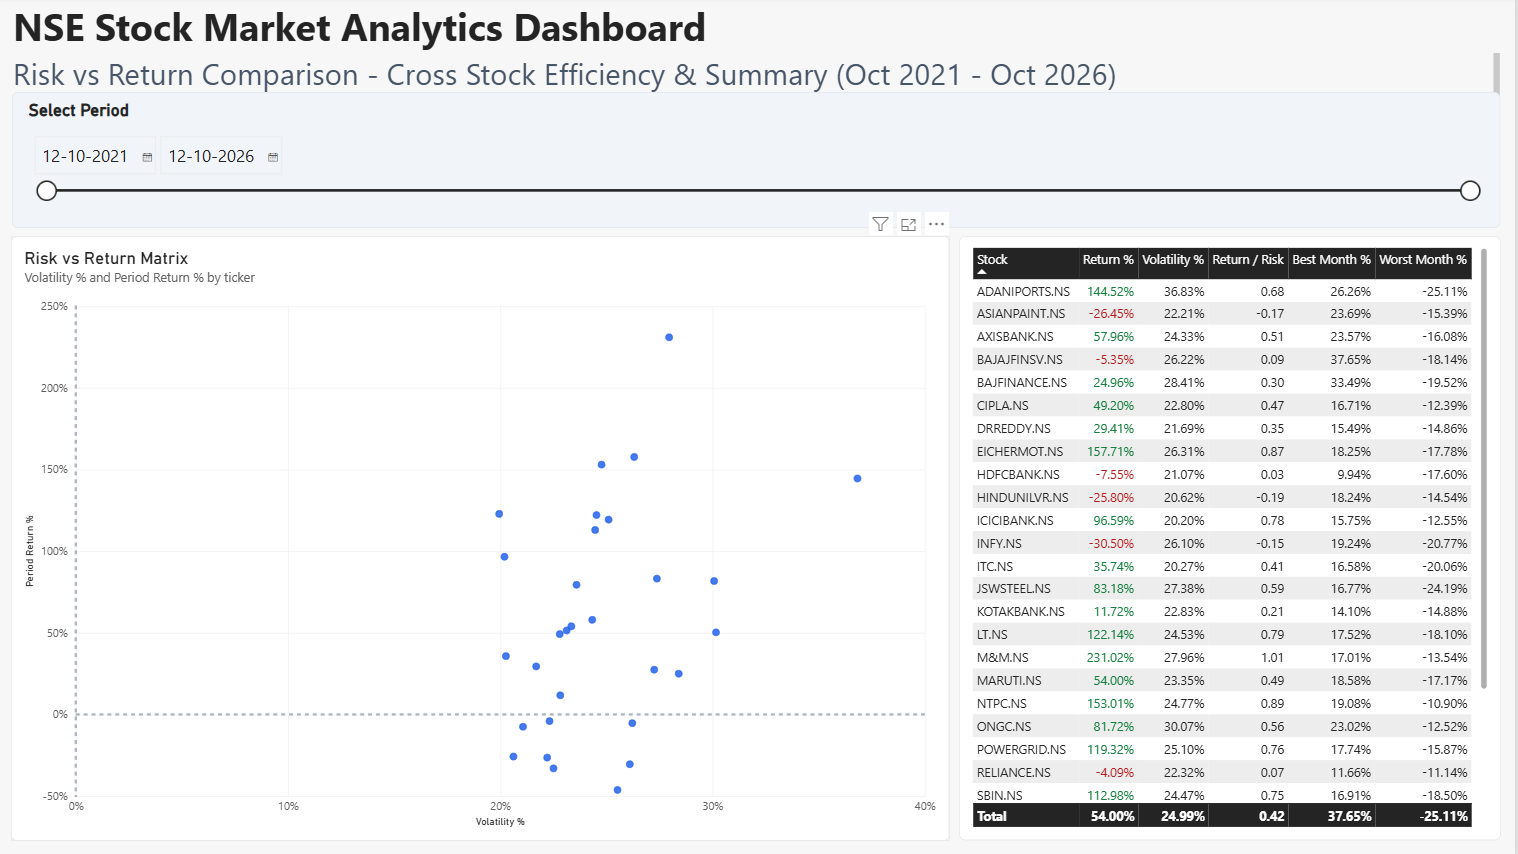

The page's visual inventory and layout, read from the dashboard file:
{"tool":"powerbi","page":{"name":"Risk & Return","canvas":[1920,1080],"ordinal":3},"visuals":[{"type":"textbox","box":[150,489,300,300],"z":0},{"type":"textbox","box":[18,0,1882,68],"z":1000},{"type":"textbox","box":[18,67.2,1882,68.9],"z":2000},{"type":"slicer","title":"Select Period","fields":{"Values":["DateTable.Date"]},"box":[16.4,116.4,1883.6,172.1],"z":3000},{"type":"scatterChart","title":"Risk vs Return Matrix","fields":{"Category":["stock_prices.ticker"],"X":["Measures (1).Volatility %"],"Y":["Measures (1).Period Return %"]},"box":[15.5,298.9,1187.7,765.9],"z":4000},{"type":"tableEx","fields":{"Values":["stock_prices.ticker","Measures (1).Period Return %","Measures (1).Volatility %","Measures (1).Return to Volatility","Measures (1).Best Month %","Measures (1).Worst Month %"]},"box":[1214.9,298.9,685.7,764.6],"z":5000}]}

Visuals, with their boxes in screenshot pixels (x1, y1, x2, y2), scaled from the page's 1920x1080 canvas onto the 1518x854 screenshot:
textbox: x1=119, y1=387, x2=356, y2=624
textbox: x1=14, y1=0, x2=1502, y2=54
textbox: x1=14, y1=53, x2=1502, y2=108
"Select Period" slicer: x1=13, y1=92, x2=1502, y2=228
"Risk vs Return Matrix" scatterChart: x1=12, y1=236, x2=951, y2=842
tableEx - stock_prices.ticker x Measures (1).Period Return %: x1=961, y1=236, x2=1503, y2=841
